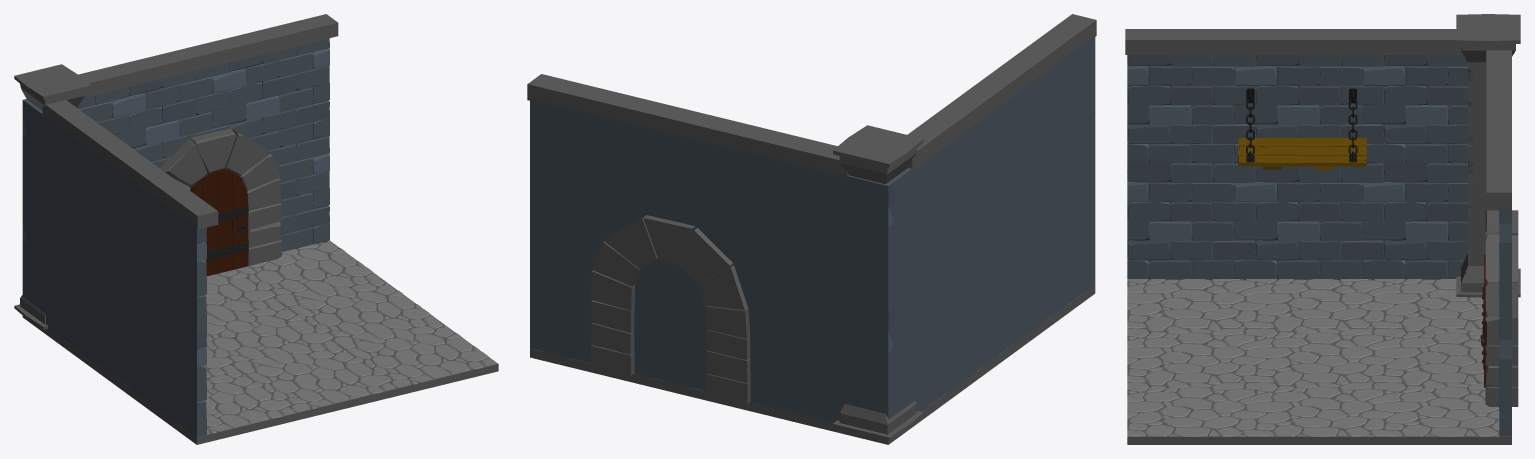
3 views of the same model, side by side, from view 1: azimuth 30°, elevation 25°; view 2: azimuth 150°, elevation 25°; view 3: azimuth 270°, elevation 25° (orthographic). The views are drawn at different scales.
Parts seen in each view (by area): view 1: Tile_floor0, Tile_wall0.011, Tile_wall0.007, Tile_wall0.008, Tile_wall0.009, Rock_arch, Decoracion.001, Tile_wall0.002, Tile_wall0, Tile_wall0.003, Tile_wall0.001, Tile_wall0.010 (+4 smaller); view 2: Tile_wall0.006, Rock_arch, Tile_wall0.004, Tile_wall0.011, Tile_wall0.007, Tile_wall0.010, Tile_wall0.005, Decoracion.001, Tile_wall0, Tile_wall0.008, Tile_wall0.009, Tile_wall0.002 (+5 smaller); view 3: Tile_floor0, Tile_wall0.008, Tile_wall0, Tile_wall0.009, Tile_wall0.002, Tile_wall0.001, Tile_wall0.003, Decoracion, Column, Rock_arch, Decoracion.001, ListonesV2 (+5 smaller).
Boxes of the visible parts, bbox=[...] form: Tile_floor0: bbox=[22, 240, 498, 444]; Tile_wall0.011: bbox=[228, 38, 329, 150]; Tile_wall0.007: bbox=[129, 63, 229, 168]; Tile_wall0.008: bbox=[139, 290, 206, 437]; Tile_wall0.009: bbox=[139, 185, 206, 332]; Rock_arch: bbox=[160, 128, 281, 265]; Decoracion.001: bbox=[78, 14, 338, 97]; Tile_wall0.002: bbox=[81, 142, 138, 289]; Tile_wall0: bbox=[81, 248, 138, 394]; Tile_wall0.003: bbox=[22, 99, 80, 247]; Tile_wall0.001: bbox=[22, 209, 80, 352]; Tile_wall0.010: bbox=[230, 136, 329, 251]; Tile_wall0.006: bbox=[769, 157, 895, 310]; Rock_arch: bbox=[590, 215, 750, 404]; Tile_wall0.004: bbox=[769, 282, 895, 422]; Tile_wall0.011: bbox=[530, 98, 649, 241]; Tile_wall0.007: bbox=[649, 128, 768, 281]; Tile_wall0.010: bbox=[530, 224, 649, 377]; Tile_wall0.005: bbox=[649, 259, 768, 406]; Decoracion.001: bbox=[527, 74, 848, 177]; Tile_wall0: bbox=[957, 210, 1026, 385]; Tile_wall0.008: bbox=[1026, 160, 1095, 334]; Tile_wall0.009: bbox=[1026, 37, 1095, 209]; Tile_wall0.002: bbox=[957, 85, 1026, 260]; Tile_floor0: bbox=[1127, 278, 1511, 444]; Tile_wall0.008: bbox=[1127, 163, 1255, 279]; Tile_wall0: bbox=[1255, 163, 1383, 279]; Tile_wall0.009: bbox=[1127, 55, 1255, 163]; Tile_wall0.002: bbox=[1255, 55, 1383, 163]; Tile_wall0.001: bbox=[1384, 163, 1467, 279]; Tile_wall0.003: bbox=[1384, 55, 1467, 163]; Decoracion: bbox=[1125, 29, 1463, 54]; Column: bbox=[1456, 14, 1520, 297]; Rock_arch: bbox=[1485, 210, 1518, 406]; Decoracion.001: bbox=[1486, 50, 1511, 207]; ListonesV2: bbox=[1238, 138, 1366, 169].
Size of the model in its own units: 616 by 456 by 616.
